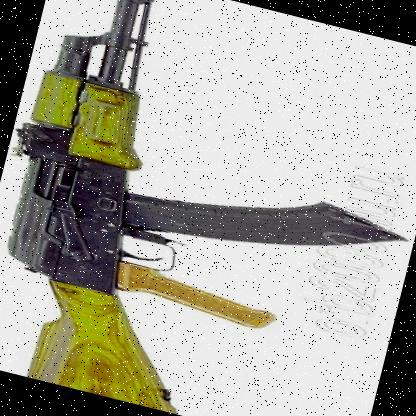rifle: (0, 0, 382, 416)
